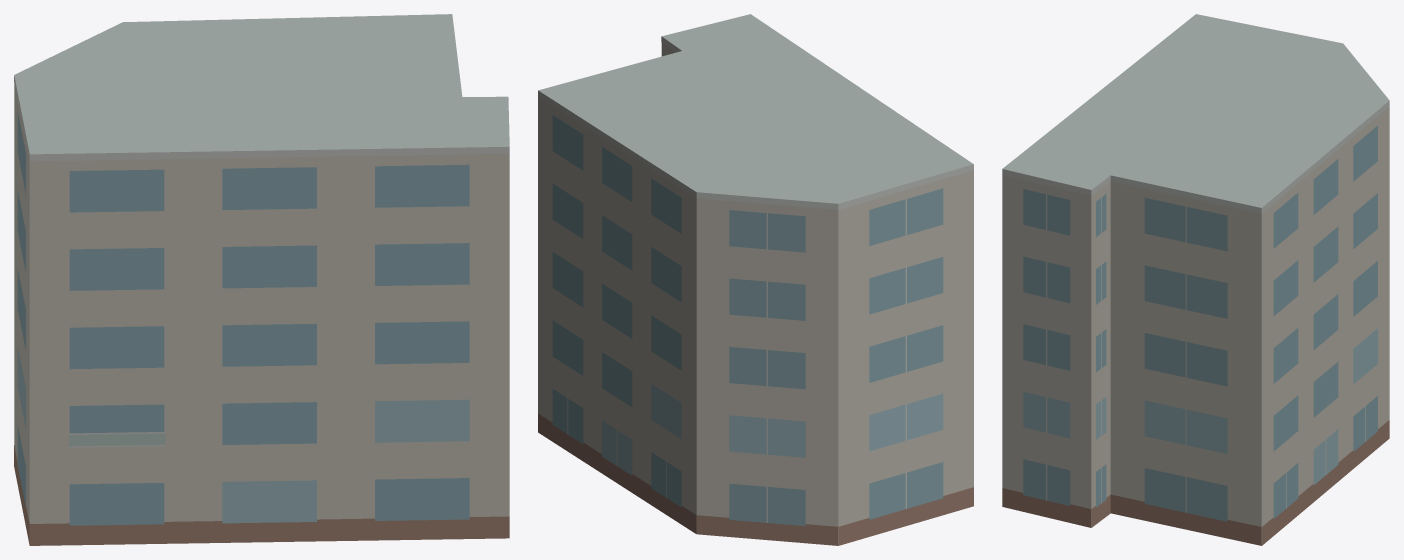
File: survey-upis-32588100.glb
3 renders of one model, left to right at view 1: azimuth 30°, elevation 25°; view 2: azimuth 150°, elevation 25°; view 3: azimuth 270°, elevation 25°, orthographic. The views are drawn at different scales.
Parts seen in each view (by area): view 1: survey-upis-32588100.tmp; view 2: survey-upis-32588100.tmp; view 3: survey-upis-32588100.tmp.
Part boxes in pixels (left/top/right/bottom): survey-upis-32588100.tmp: left=14, top=14, right=509, bottom=545; survey-upis-32588100.tmp: left=538, top=14, right=973, bottom=545; survey-upis-32588100.tmp: left=1002, top=14, right=1389, bottom=545.
Bounding box in the file's own units: 17 × 13.8 × 14.35.
